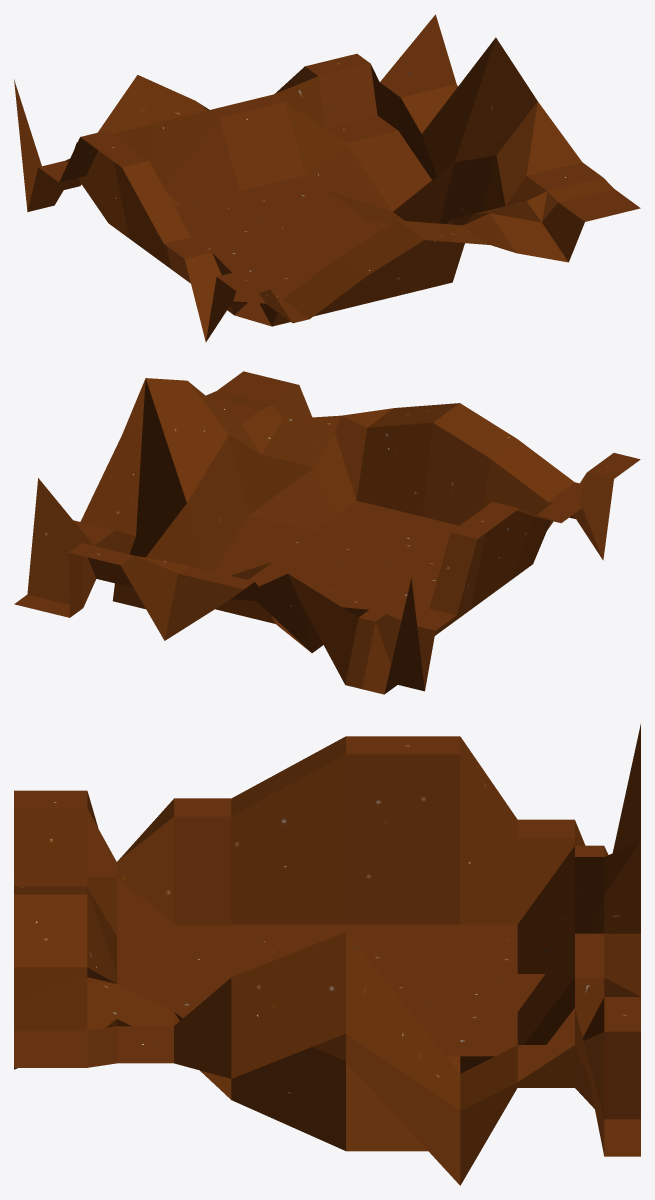
Rendered from Ground.glb.
3 views of the same model, one above another, from view 1: azimuth 30°, elevation 25°; view 2: azimuth 150°, elevation 25°; view 3: azimuth 270°, elevation 25° (orthographic). The views are drawn at different scales.
Parts seen in each view (by area): view 1: plane; view 2: plane; view 3: plane.
Boxes of the visible parts, bbox=[...] form: plane: bbox=[14, 14, 640, 342]; plane: bbox=[14, 371, 640, 694]; plane: bbox=[14, 724, 640, 1185].
Size of the model in its own units: 32 by 14.64 by 32.
Materials: 1 (1 with a texture image).
